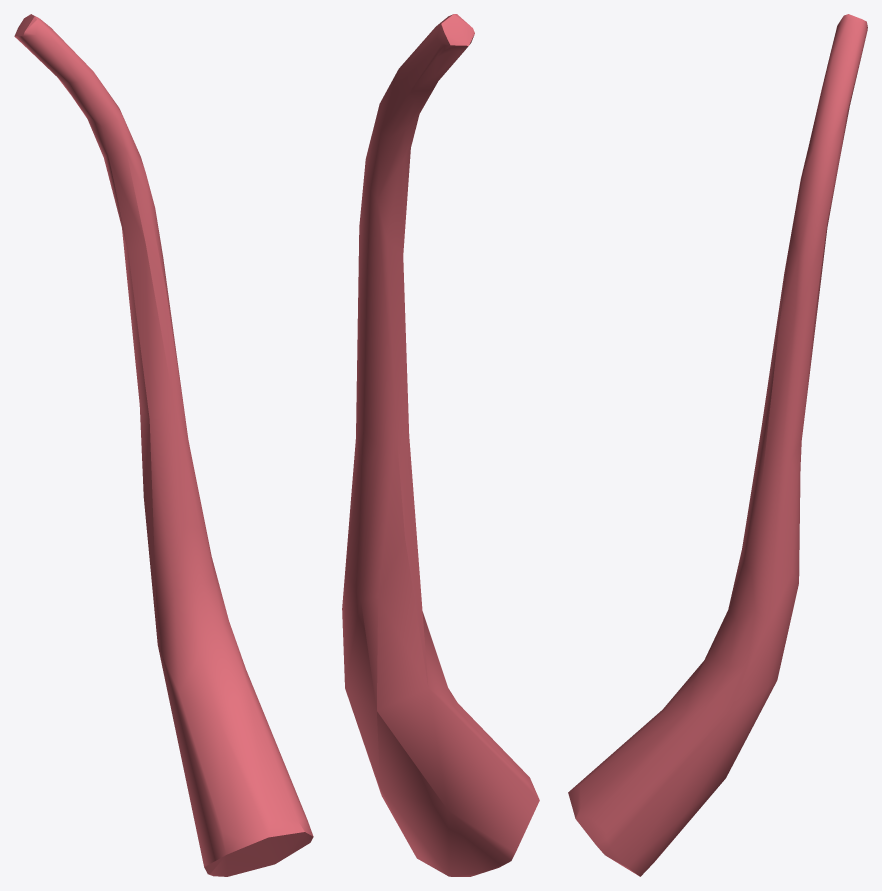
Rendered from fma68665_fj2978.glb.
3 renders of one model, left to right at view 1: azimuth 30°, elevation 25°; view 2: azimuth 150°, elevation 25°; view 3: azimuth 270°, elevation 25°, orthographic. The views are drawn at different scales.
Visible parts, largest first — view 1: FMA68665_FJ2978; view 2: FMA68665_FJ2978; view 3: FMA68665_FJ2978.
Part boxes in pixels (box(x1,y1,x2,y2)): FMA68665_FJ2978: box(14, 14, 313, 876); FMA68665_FJ2978: box(342, 14, 539, 876); FMA68665_FJ2978: box(568, 14, 867, 876).
Size of the model in its own units: 0.0125 by 0.0566 by 0.0192.
